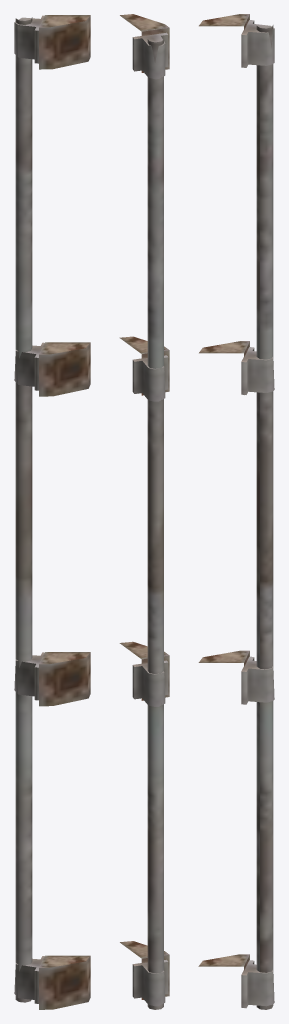
File: wall.container.corner.l.glb
The picture shows the model from 3 angles, left to right: view 1: azimuth 90°, elevation 25°; view 2: azimuth 210°, elevation 25°; view 3: azimuth 270°, elevation 25°; orthographic projection.
Visible parts, largest first — view 1: model; view 2: model; view 3: model.
Part boxes in pixels (x1,y1,x2,y2): model: [14, 15, 90, 1009]; model: [119, 14, 169, 1009]; model: [198, 14, 274, 1009].
Size of the model in its own units: 0.1029 by 2.83 by 0.199.
1 material, 1 textured.
